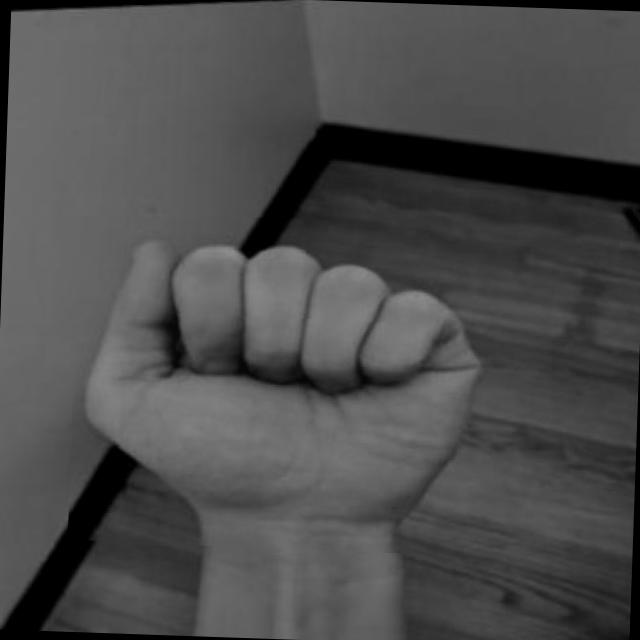A: (67, 210, 509, 558)
